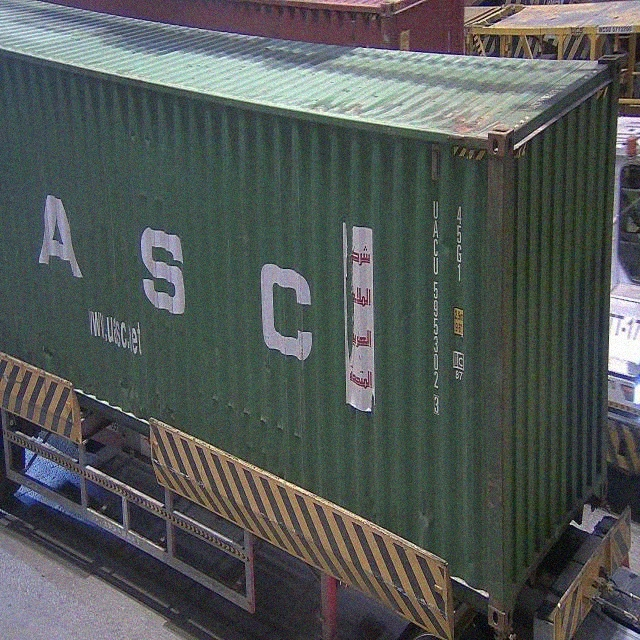Dent: (121, 370, 174, 427), (416, 494, 448, 538)
